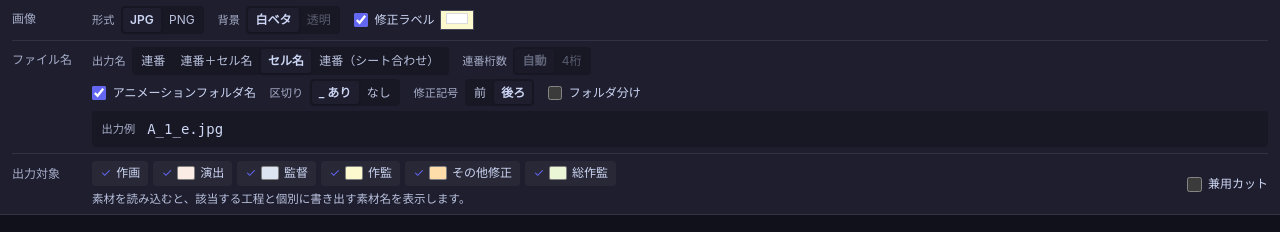
Test case: ExportSettings naming controls › アニメーションフォルダ名とセル部分の区切りを省略できる
Click the button "_ あり" at (335,93), box [312,81,358,104]
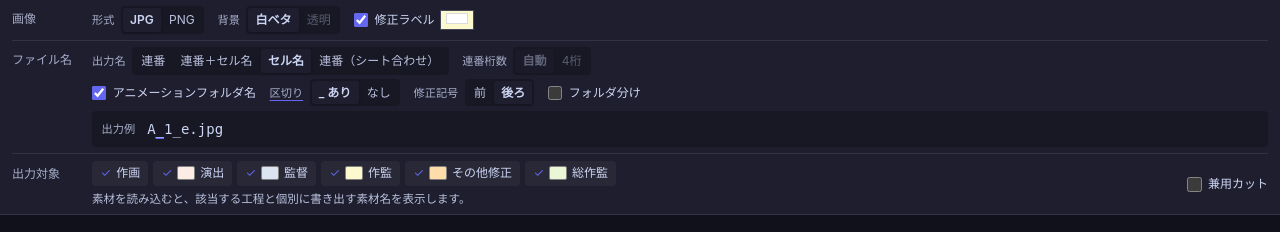
Expected: the element named "出力例: A_1_e.jpg" is shown, [147,118,223,141]
Click the button "なし" at (379,93), box [360,81,398,104]
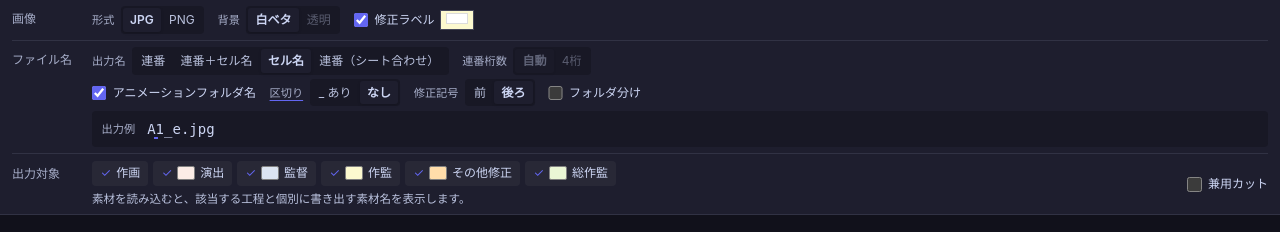
Expected: the element named "出力例: A1_e.jpg" is shown, [147,118,215,141]
